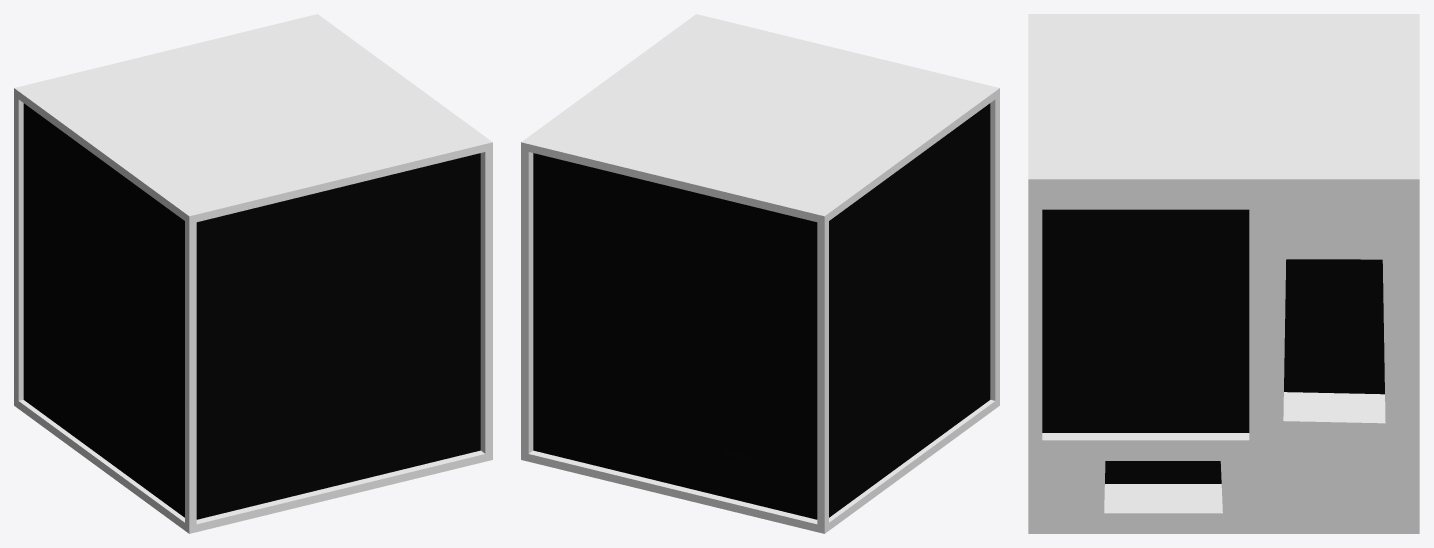
Rendered from VendingMachine.fbx.
The picture shows the model from 3 angles, left to right: view 1: azimuth 30°, elevation 25°; view 2: azimuth 150°, elevation 25°; view 3: azimuth 270°, elevation 25°; orthographic projection. The views are drawn at different scales.
Parts seen in each view (by area): view 1: Cube; view 2: Cube; view 3: Cube.
Part boxes in pixels (bbox=[...]): Cube: bbox=[14, 14, 492, 533]; Cube: bbox=[521, 14, 999, 533]; Cube: bbox=[1028, 14, 1419, 533].
Bounding box in the file's own units: 200 × 200 × 200.
